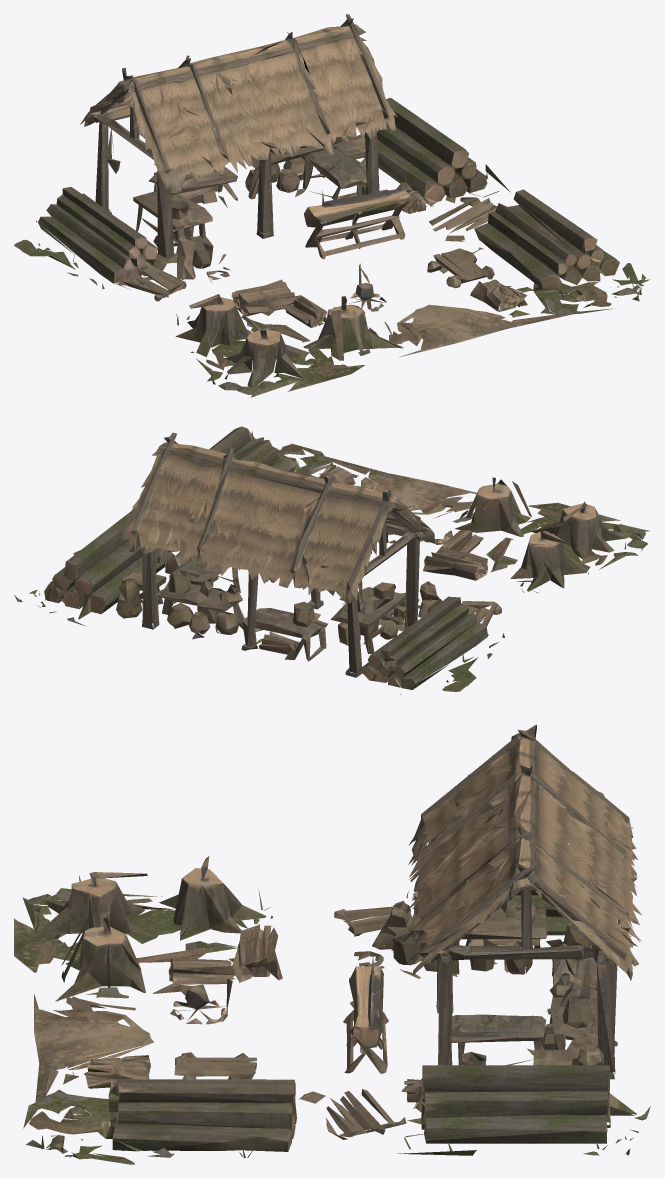
File: lumber-camp.glb
3 renders of one model, top to bottom at view 1: azimuth 30°, elevation 25°; view 2: azimuth 150°, elevation 25°; view 3: azimuth 270°, elevation 25°, orthographic. The views are drawn at different scales.
Parts seen in each view (by area): view 1: output_unwrapped; view 2: output_unwrapped; view 3: output_unwrapped.
Part boxes in pixels (x1,y1,x2,y2): output_unwrapped: (14, 14, 650, 397); output_unwrapped: (14, 426, 649, 694); output_unwrapped: (14, 724, 650, 1164).
Size of the model in its own units: 12 by 4.42 by 11.49.
Materials: 1 (1 with a texture image).
